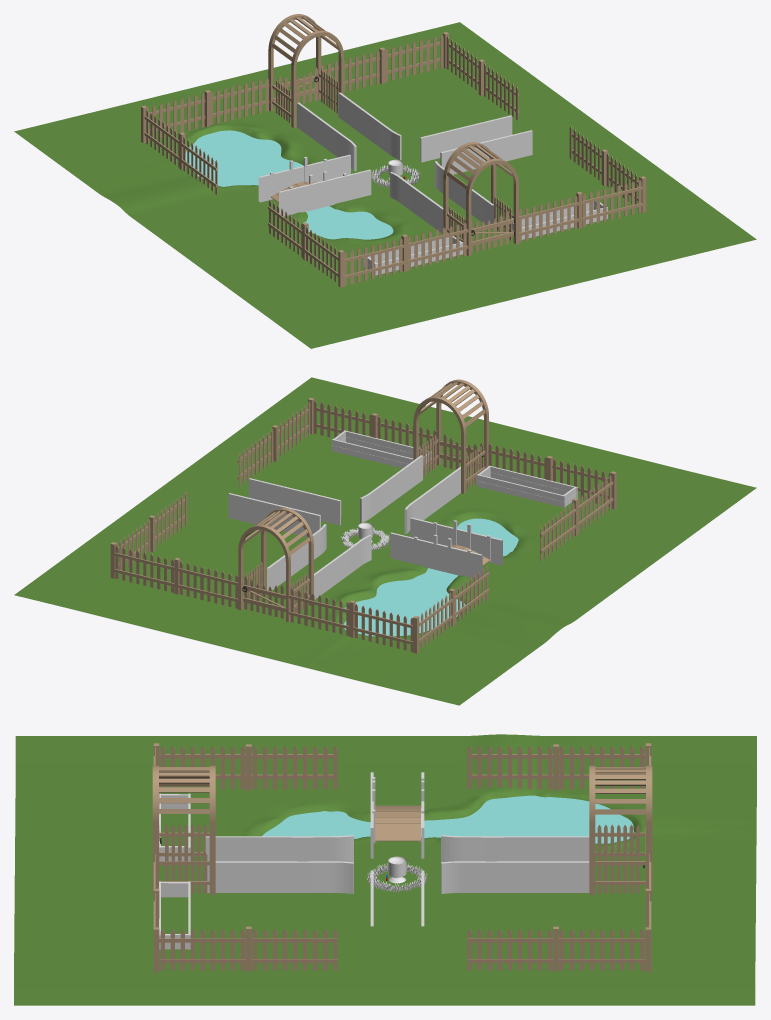
Rendered from SM_Blockout_Aangepast.fbx.
The picture shows the model from 3 angles, top to bottom: view 1: azimuth 30°, elevation 25°; view 2: azimuth 150°, elevation 25°; view 3: azimuth 270°, elevation 25°; orthographic projection. The views are drawn at different scales.
Visible parts, largest first — view 1: Plane.001, BezierCurve, Plane, Cylinder.002, Cylinder.003, Board2.015, Board1.010, Board2.010, Board2.002, Wall1.001, Wall1.015, Cube.006 (+18 smaller); view 2: Plane.001, BezierCurve, Plane, Cylinder.003, Cylinder.002, Cube.006, Board2.010, Cube.007, Board2.002, Board2.015, Board1.010, gate.001 (+17 smaller); view 3: Plane.001, BezierCurve, Plane, Cylinder.002, Cylinder.003, Board2.002, Board1.010, Wall1.014, Wall1.006, Cube.008, Wall1.009, Wall1.016 (+13 smaller).
Boxes of the visible parts, left/top/right/bottom form: Plane.001: left=14, top=22, right=756, bottom=348; BezierCurve: left=258, top=92, right=532, bottom=233; Plane: left=185, top=130, right=393, bottom=239; Cylinder.002: left=443, top=142, right=518, bottom=256; Cylinder.003: left=268, top=14, right=343, bottom=128; Board2.015: left=268, top=206, right=468, bottom=287; Board1.010: left=519, top=133, right=646, bottom=235; Board2.010: left=141, top=84, right=269, bottom=187; Board2.002: left=324, top=32, right=519, bottom=113; Wall1.001: left=211, top=77, right=268, bottom=124; Wall1.015: left=385, top=35, right=443, bottom=81; Cube.006: left=362, top=236, right=463, bottom=275; Plane.001: left=14, top=377, right=756, bottom=705; BezierCurve: left=228, top=455, right=502, bottom=599; Plane: left=343, top=518, right=518, bottom=636; Cylinder.003: left=238, top=508, right=313, bottom=622; Cylinder.002: left=413, top=379, right=488, bottom=493; Cube.006: left=476, top=465, right=577, bottom=507; Board2.010: left=289, top=572, right=489, bottom=653; Cube.007: left=331, top=430, right=431, bottom=468; Board2.002: left=110, top=499, right=238, bottom=601; Board2.015: left=488, top=450, right=616, bottom=553; Board1.010: left=237, top=397, right=433, bottom=479; gate.001: left=242, top=575, right=285, bottom=618; Plane.001: left=14, top=734, right=756, bottom=1005; BezierCurve: left=205, top=772, right=589, bottom=926; Plane: left=262, top=795, right=633, bottom=843; Cylinder.002: left=152, top=765, right=215, bottom=894; Cylinder.003: left=589, top=765, right=652, bottom=894; Board2.002: left=467, top=862, right=651, bottom=972; Board1.010: left=153, top=862, right=337, bottom=972; Wall1.014: left=253, top=746, right=337, bottom=789; Wall1.006: left=467, top=746, right=551, bottom=789; Cube.008: left=375, top=805, right=420, bottom=841; Wall1.009: left=160, top=929, right=245, bottom=970; Wall1.016: left=559, top=929, right=644, bottom=970.
Bounding box in the file's own units: 1536 × 378 × 1779.
